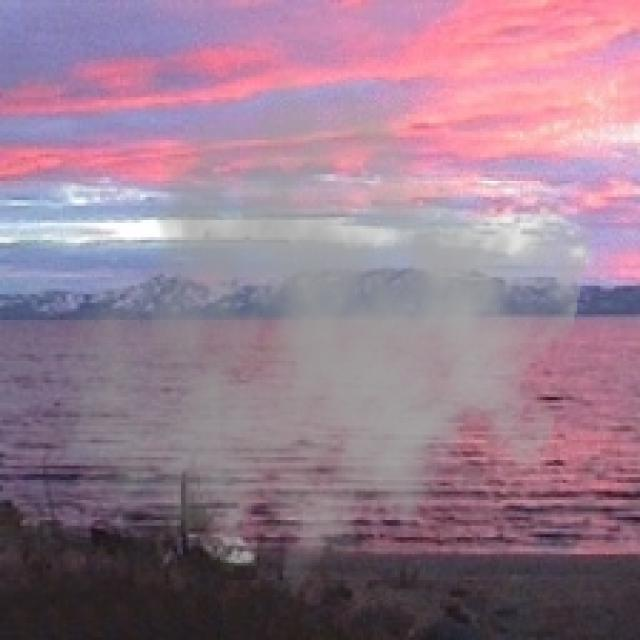smoke: (54, 66, 597, 614)
